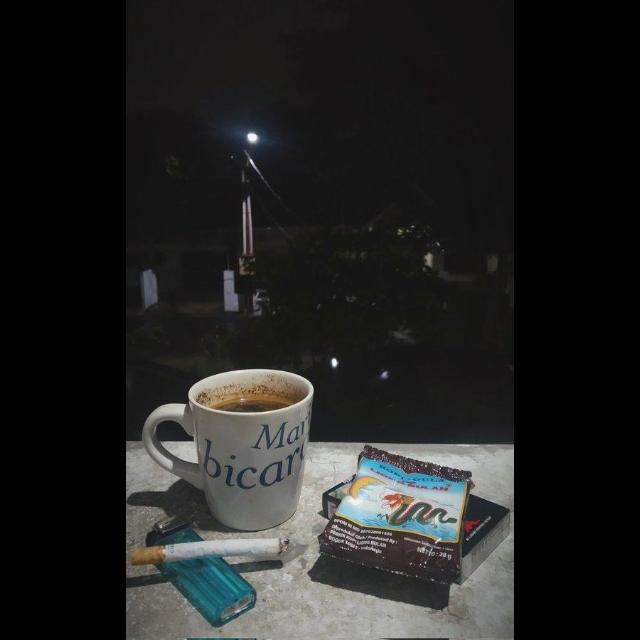rokok: (128, 526, 294, 574)
